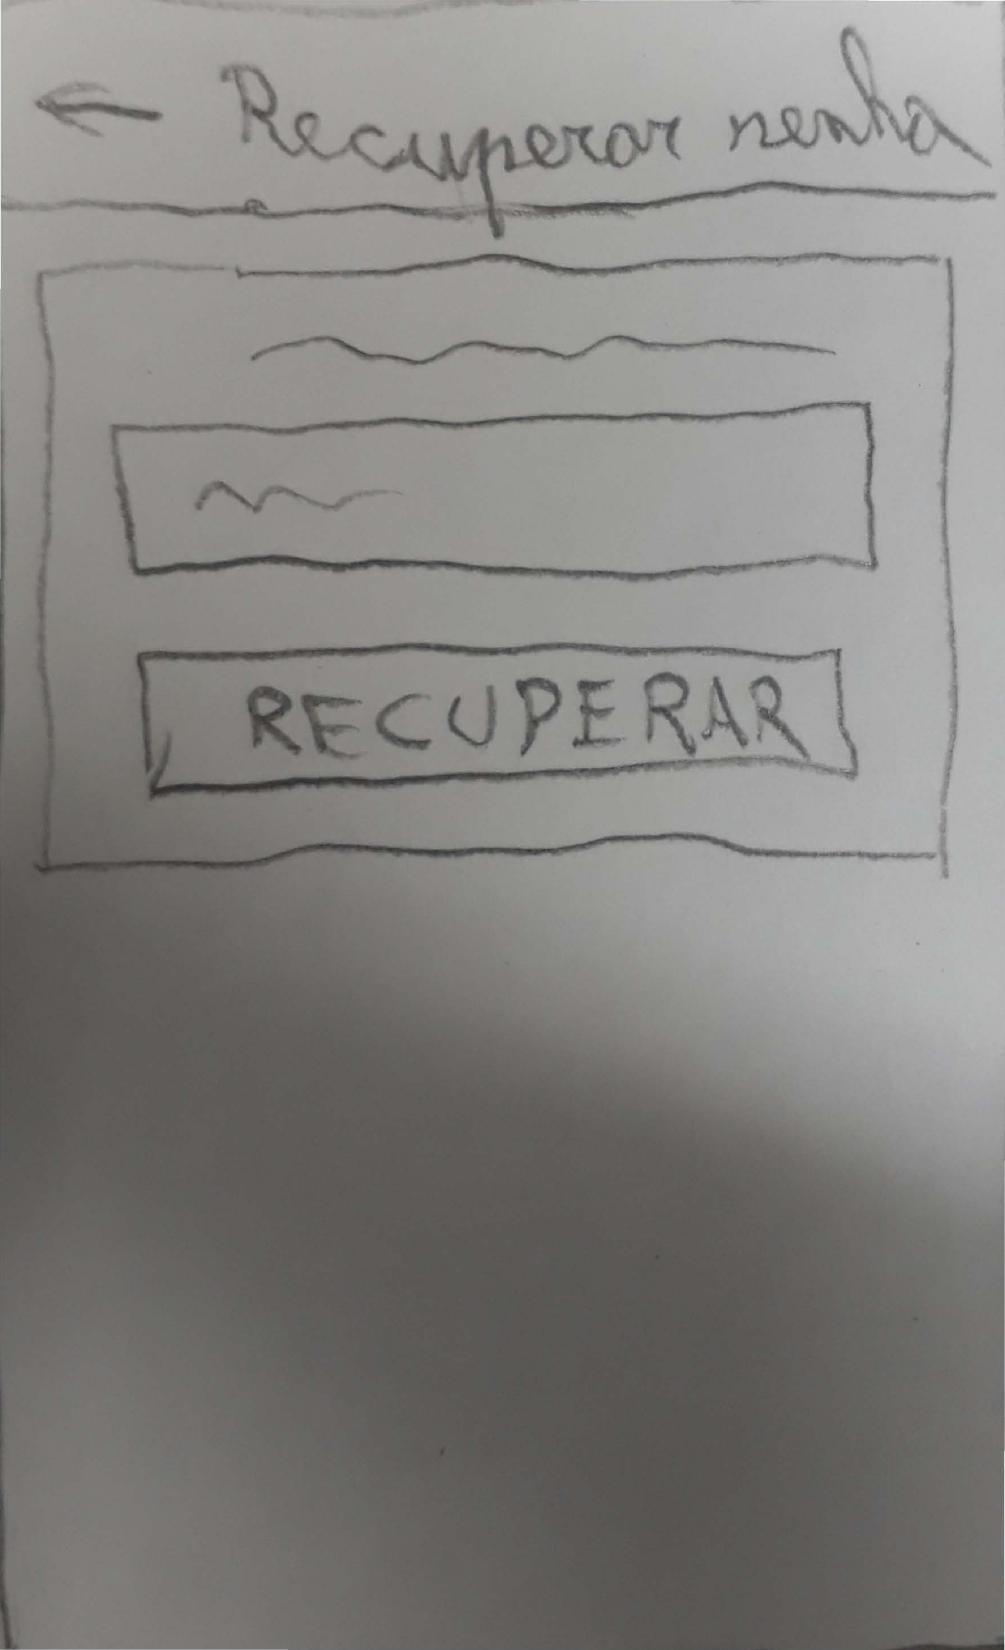Button: (130, 645, 860, 798), (35, 74, 166, 143)
Label: (225, 20, 989, 179), (246, 330, 838, 367)
Screen: (1, 1, 1003, 1648)
TextBox: (108, 405, 880, 575)
